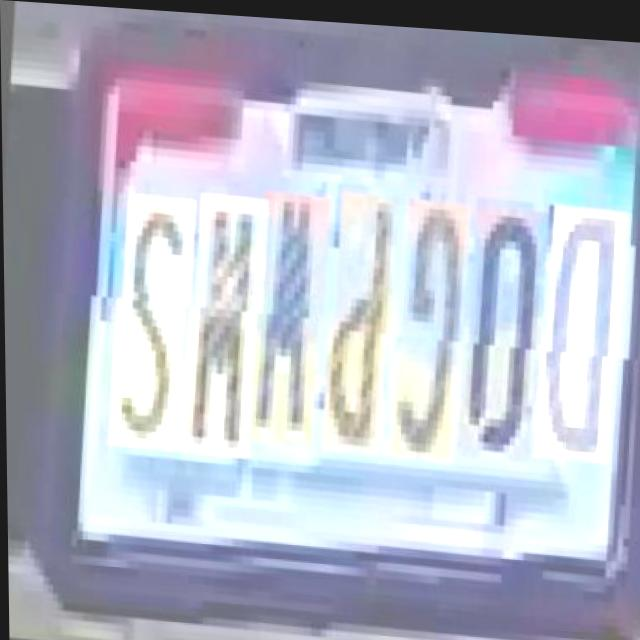0: (449, 198, 539, 458)
d: (526, 197, 618, 457)
g: (381, 193, 462, 459)
p: (314, 188, 389, 454)
s: (102, 194, 186, 454)
w: (174, 193, 259, 459), (236, 190, 321, 448)
